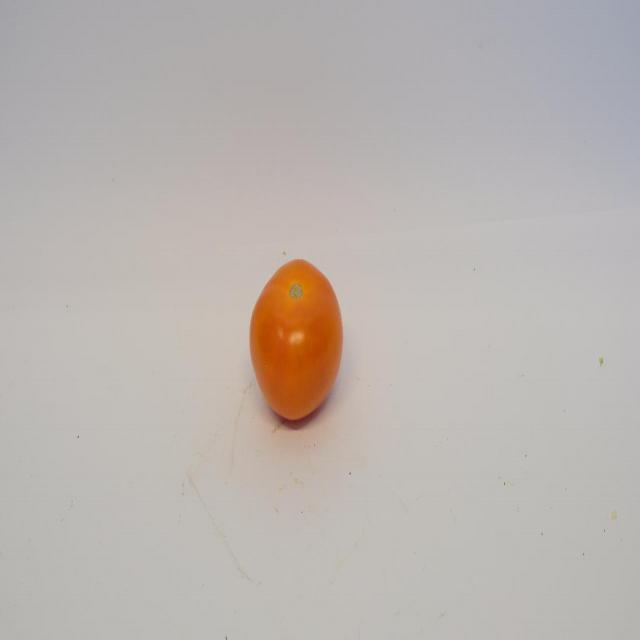tomato: (250, 249, 346, 430)
